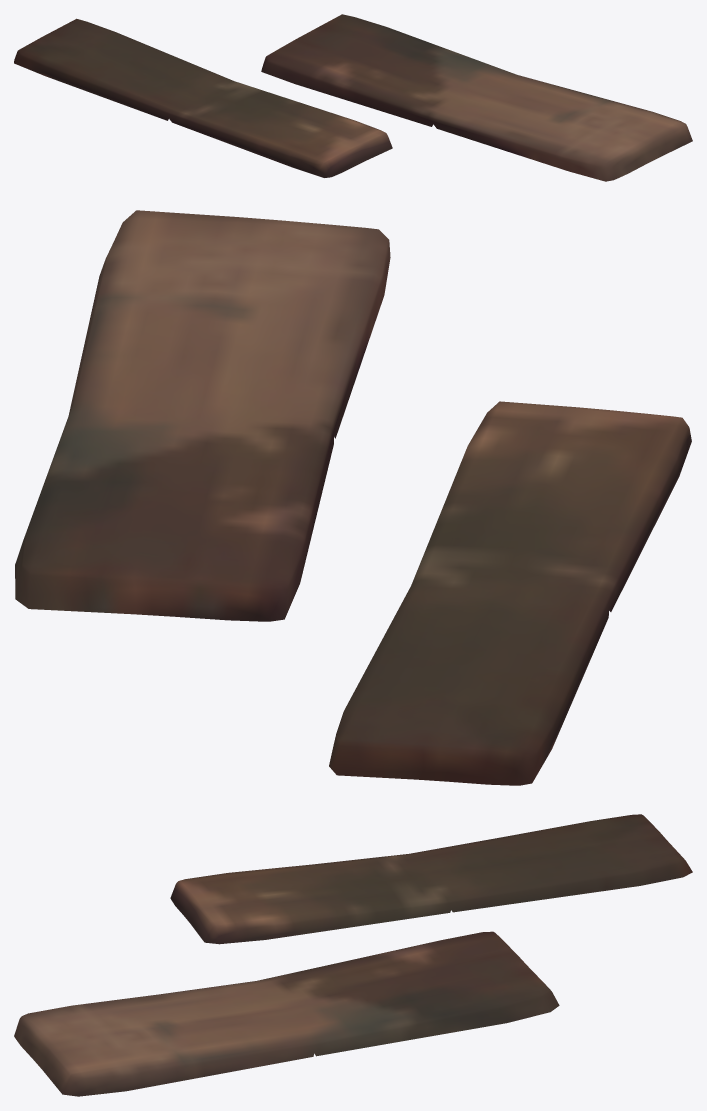
The model's file is Beach_Details_9.glb.
3 renders of one model, top to bottom at view 1: azimuth 30°, elevation 25°; view 2: azimuth 150°, elevation 25°; view 3: azimuth 270°, elevation 25°, orthographic. The views are drawn at different scales.
Visible parts, largest first — view 1: Object_2.029; view 2: Object_2.029; view 3: Object_2.029.
Boxes of the visible parts, x1,y1,x2,y2 form: Object_2.029: [14, 14, 692, 181]; Object_2.029: [15, 210, 691, 785]; Object_2.029: [14, 814, 692, 1096].
Bounding box in the file's own units: 12.95 × 0.7039 × 14.35.
1 material, 1 textured.
